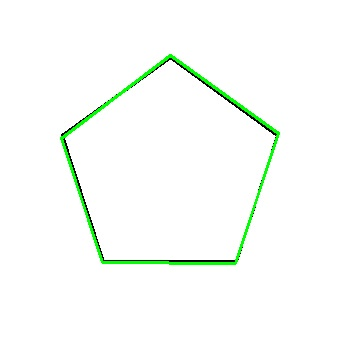line_segment: (61, 55, 279, 264)
